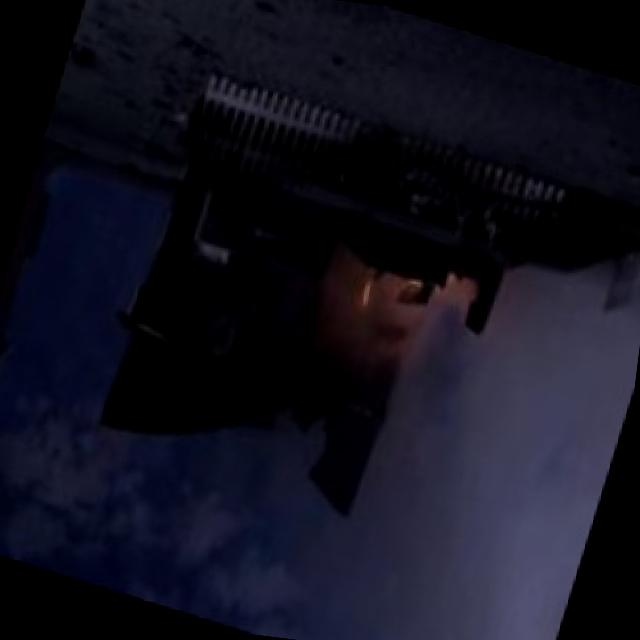smoke: (314, 339, 631, 640)
